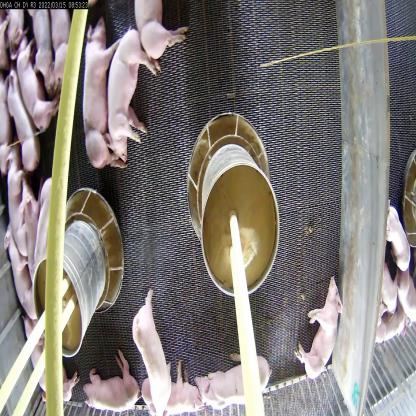Pig: (292, 269, 344, 385), (108, 26, 148, 164), (127, 291, 170, 415), (81, 29, 116, 179), (74, 350, 147, 416), (192, 350, 274, 407), (13, 34, 57, 133), (141, 358, 208, 416), (133, 0, 188, 70), (5, 67, 38, 170), (3, 148, 32, 260), (3, 226, 34, 323), (27, 181, 59, 264), (28, 1, 56, 90), (49, 10, 74, 85)
